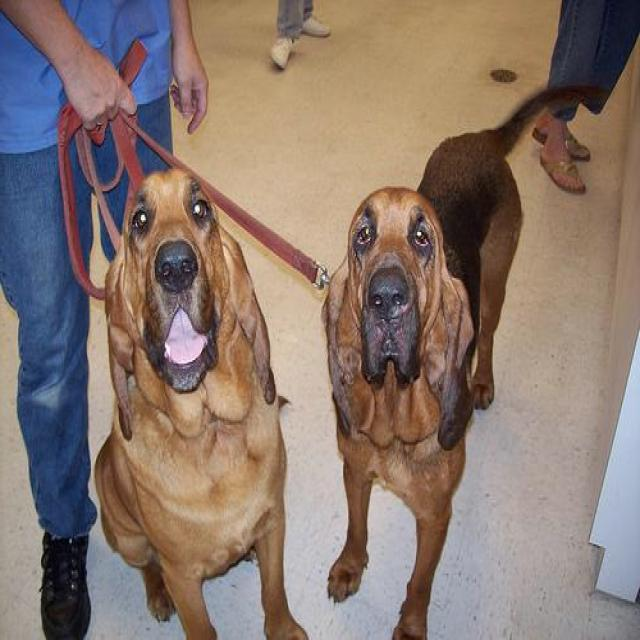bloodhound: (325, 75, 604, 635), (95, 167, 307, 638)
